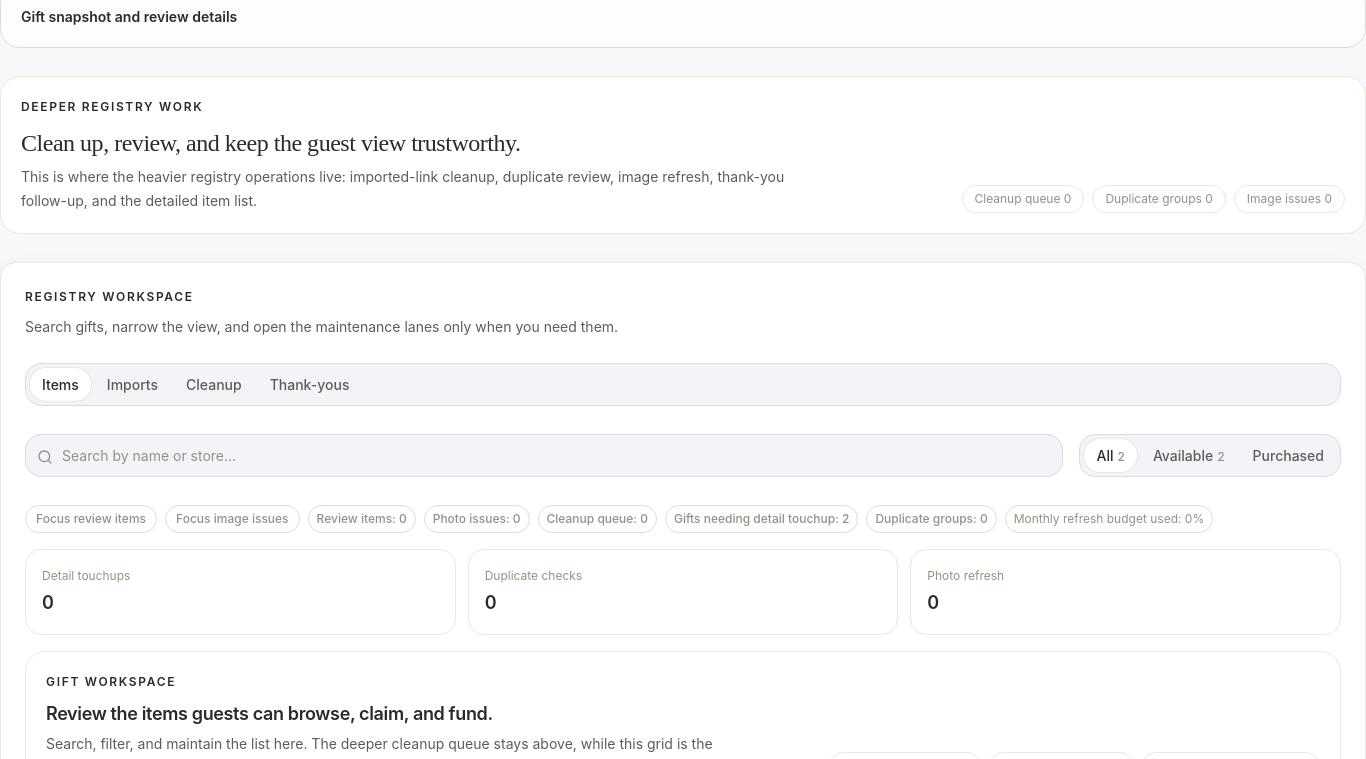
Test: RegistryDashboardRouteContent › renders fund all-clear readback when every cash fund lane is fully set up and already moving
(page scrolled)
Click the button "Cleanup" at (214, 384), box [174,368,254,401]
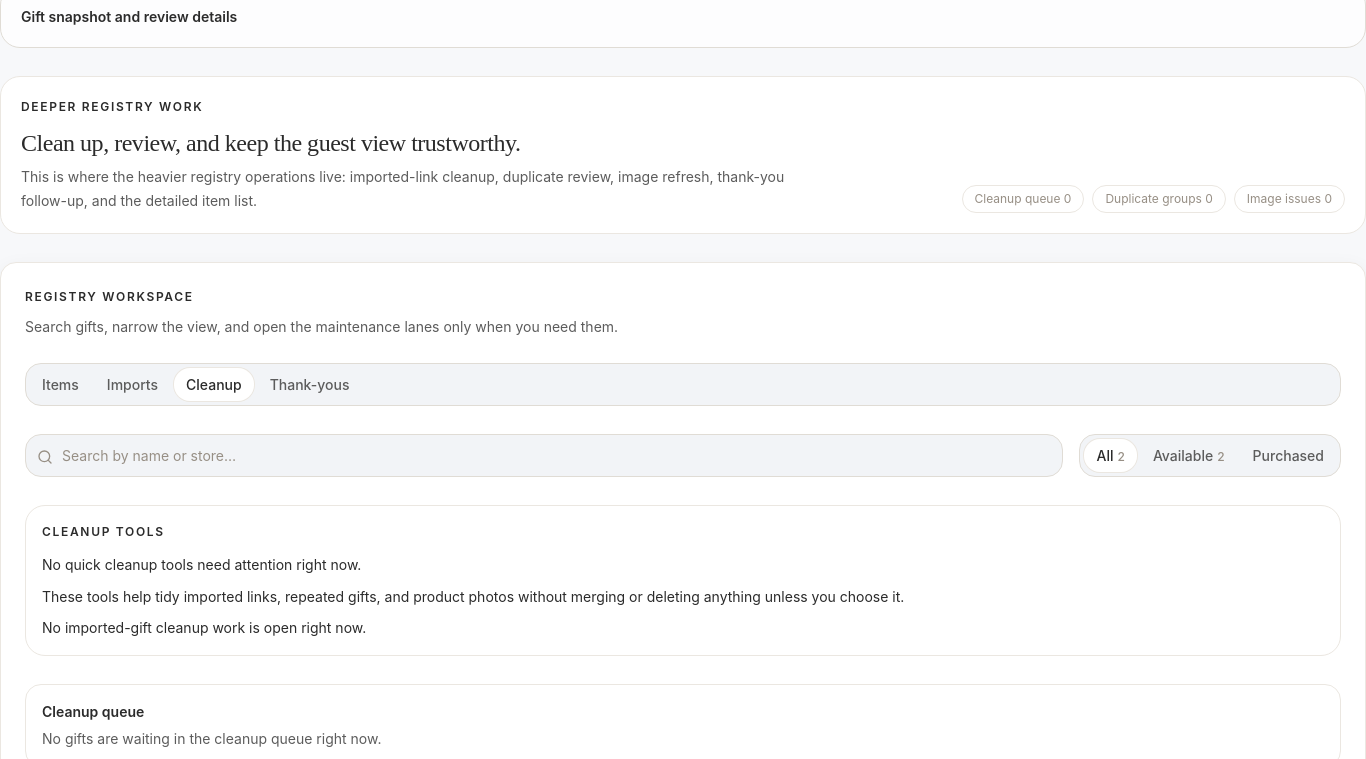
Check: the text "No imported-gift cleanup work is open right now." is shown, box [42,619,366,636]
Check: the text "No gifts are waiting in the cleanup queue right now." is shown, box [42,730,381,747]
